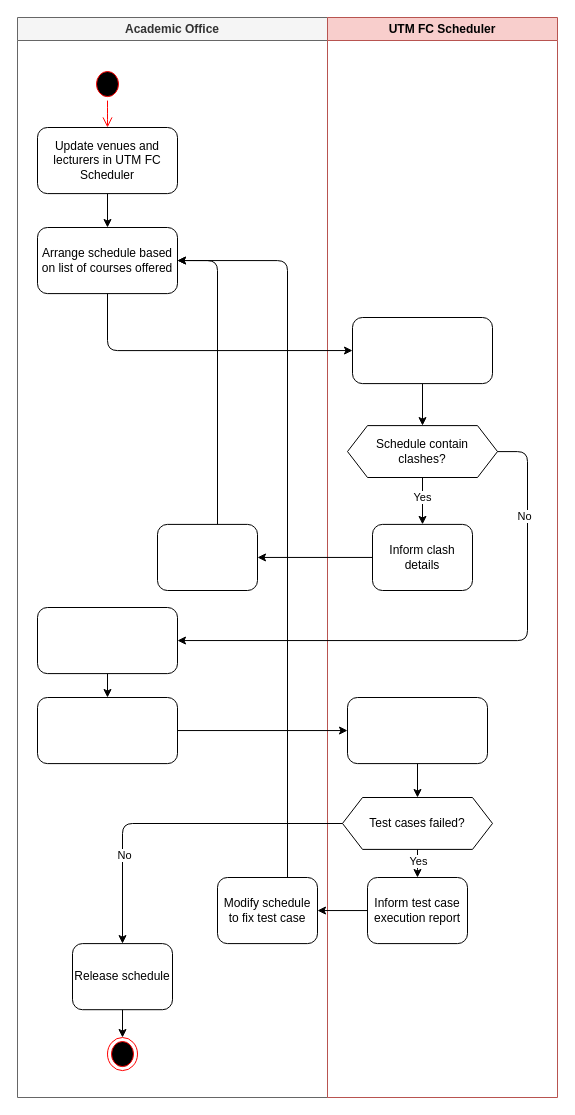
The diagram is 575 pixels wide and 1115 high, and some of its shapes have lost their labels. Each missing label, with the centre of its shape:
"Create test cases based on semester requirements" goes at (x=107, y=640).
"Execute test cases" goes at (x=107, y=730).
"Perform search algorithm to validate test case" goes at (x=417, y=730).
"Performs automatic clash checking" goes at (x=422, y=350).
"Resolve the clash" goes at (x=207, y=556).
